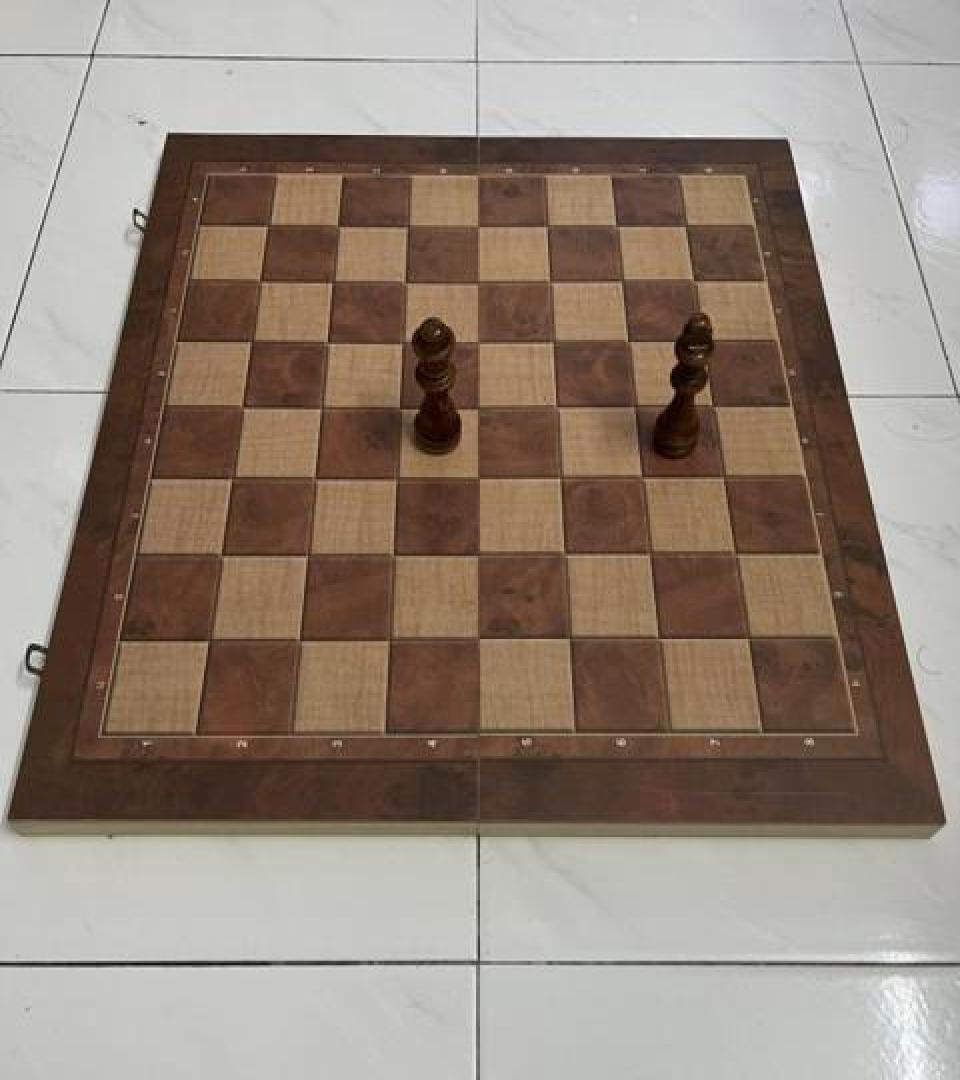xcorner: (376, 536, 408, 573), (290, 536, 322, 573), (731, 617, 763, 654), (670, 208, 702, 244), (601, 208, 633, 244), (531, 208, 563, 244), (461, 209, 493, 245), (391, 209, 423, 245), (321, 209, 353, 245), (251, 209, 283, 245), (679, 263, 711, 299), (606, 263, 638, 299), (534, 263, 566, 299), (461, 264, 493, 300), (389, 264, 421, 300), (316, 264, 348, 300), (243, 266, 275, 302), (687, 323, 719, 359), (612, 323, 644, 359), (537, 323, 569, 359), (461, 324, 493, 360), (386, 324, 418, 360), (310, 325, 342, 361), (234, 325, 266, 361), (697, 387, 729, 423), (619, 388, 651, 424), (540, 388, 572, 424), (461, 388, 493, 424), (383, 389, 415, 425), (304, 389, 336, 425), (707, 457, 739, 493), (626, 458, 658, 494), (544, 458, 576, 494), (462, 459, 494, 495), (380, 459, 412, 495), (297, 460, 329, 496), (215, 460, 247, 496), (719, 533, 751, 569), (633, 534, 665, 570), (548, 536, 580, 572), (462, 536, 494, 572), (204, 538, 236, 574), (642, 619, 674, 655), (552, 619, 584, 655), (462, 620, 494, 656), (372, 620, 404, 656), (282, 621, 314, 657), (192, 622, 224, 658), (225, 391, 257, 426)
